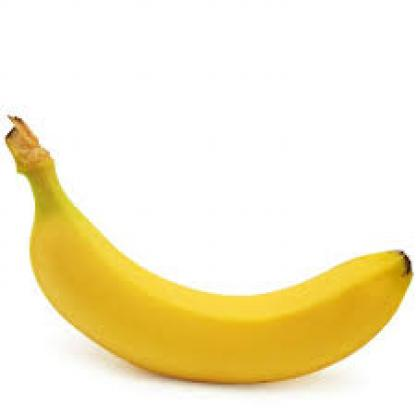Fresh: (7, 74, 410, 385)
